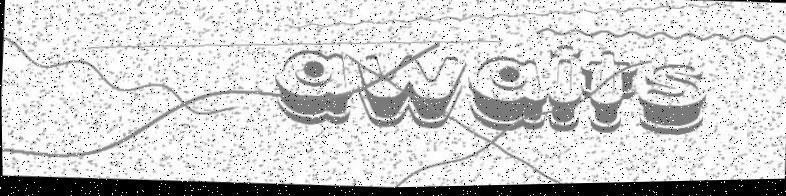a: (267, 45, 358, 131), (464, 51, 551, 137)
i: (544, 43, 585, 139)
s: (634, 59, 708, 141)
t: (577, 47, 640, 140)
w: (355, 49, 467, 132)
